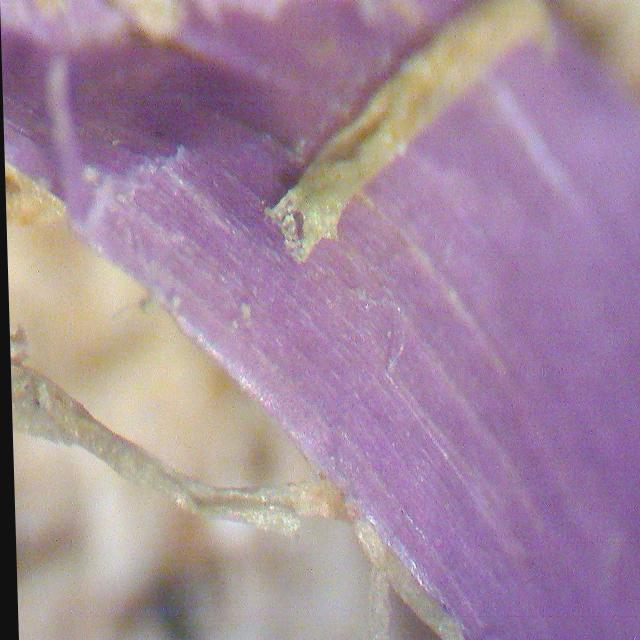microplastic: (0, 0, 640, 640)
